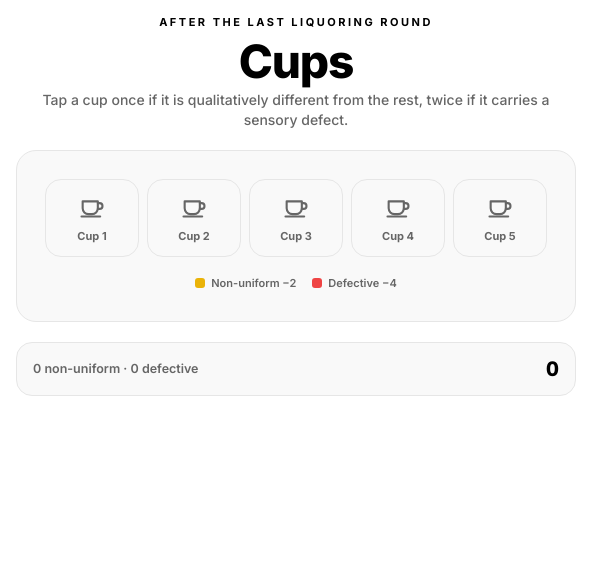
it: CupsStep — SCA-104 §5.4 › picking the type counts the defect: −4 on top of the cup's −2 (§5.4.2)
The image size is (593, 561).
Click the button "Cup 4" at (398, 218), box 351,179 -> 445,257
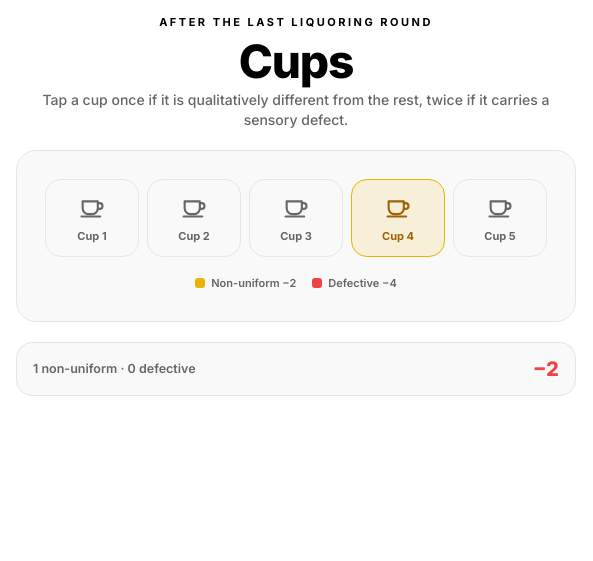
Click the button "Cup 4" at (398, 218), box 351,179 -> 445,257
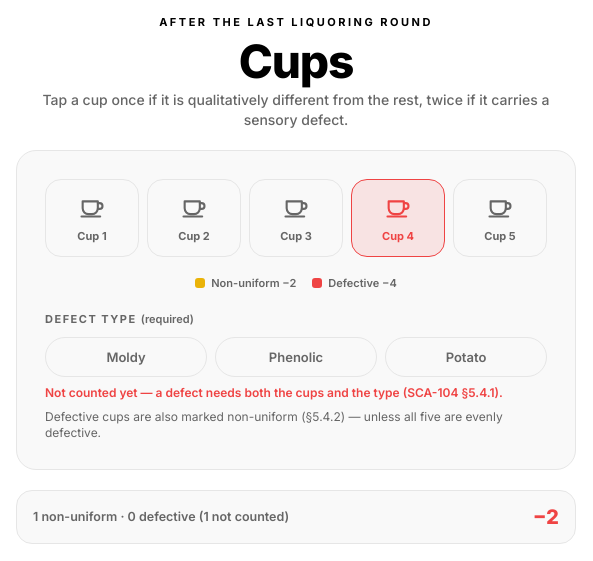
Click the button "Potato" at (466, 357), box 385,337 -> 547,377
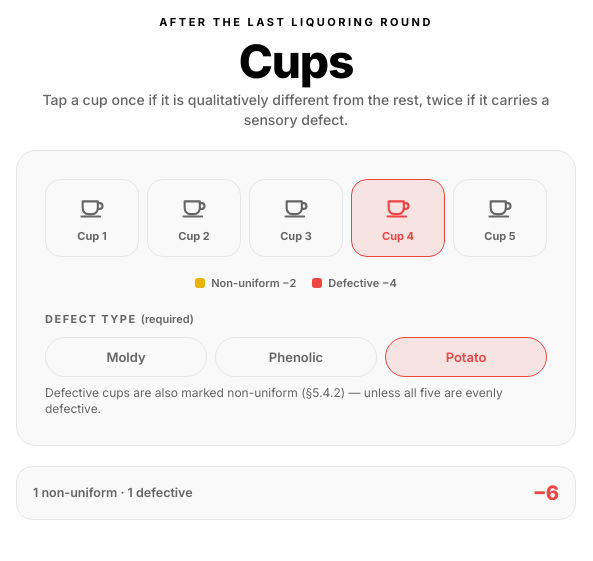
Result: the text "Not counted yet" is gone
Result: the text with test id "cups-penalty" reads "−6" at 533,481 -> 559,505
Result: the text with test id "cups-line" reads "1 non-uniform · 1 defective" at 33,483 -> 193,503
